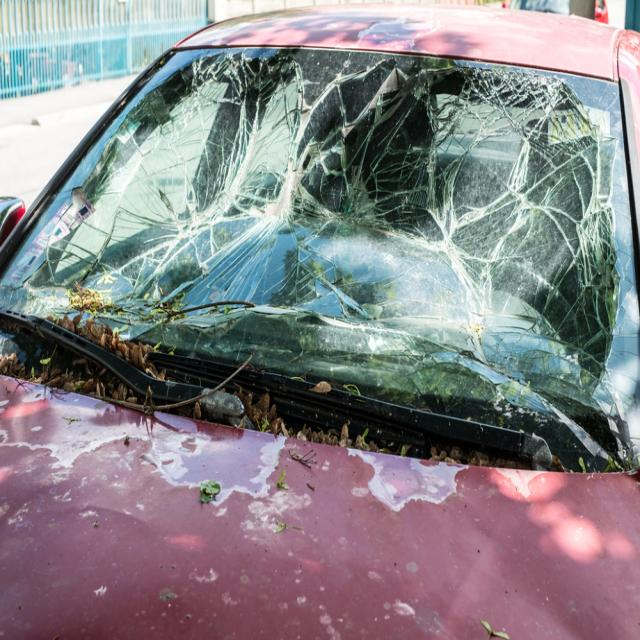glass shatter: (0, 48, 640, 469)
